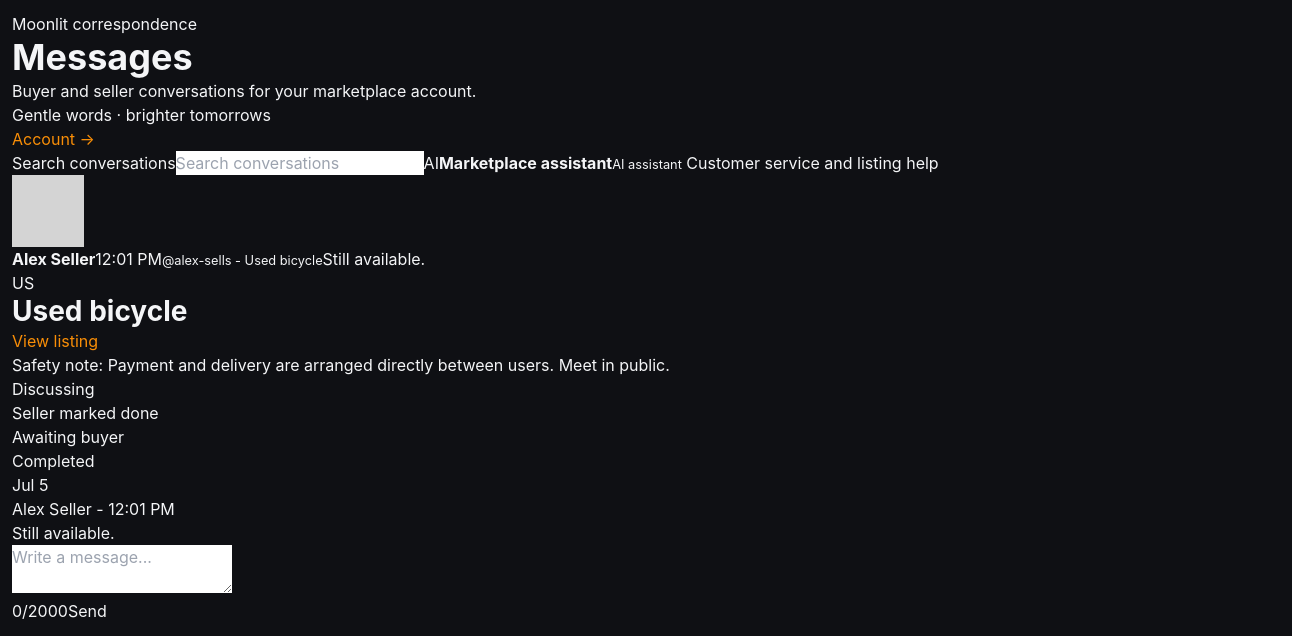
Test: ConversationShellComponent › cuts the Marketplace assistant pane over to V2 when its build flag is enabled
The width and height of the screenshot is (1292, 636).
What coordinates should you click on to do the following:
click the button with class "agent-row"
I would click on:
 (681, 163)
Its box is [424, 151, 939, 175].
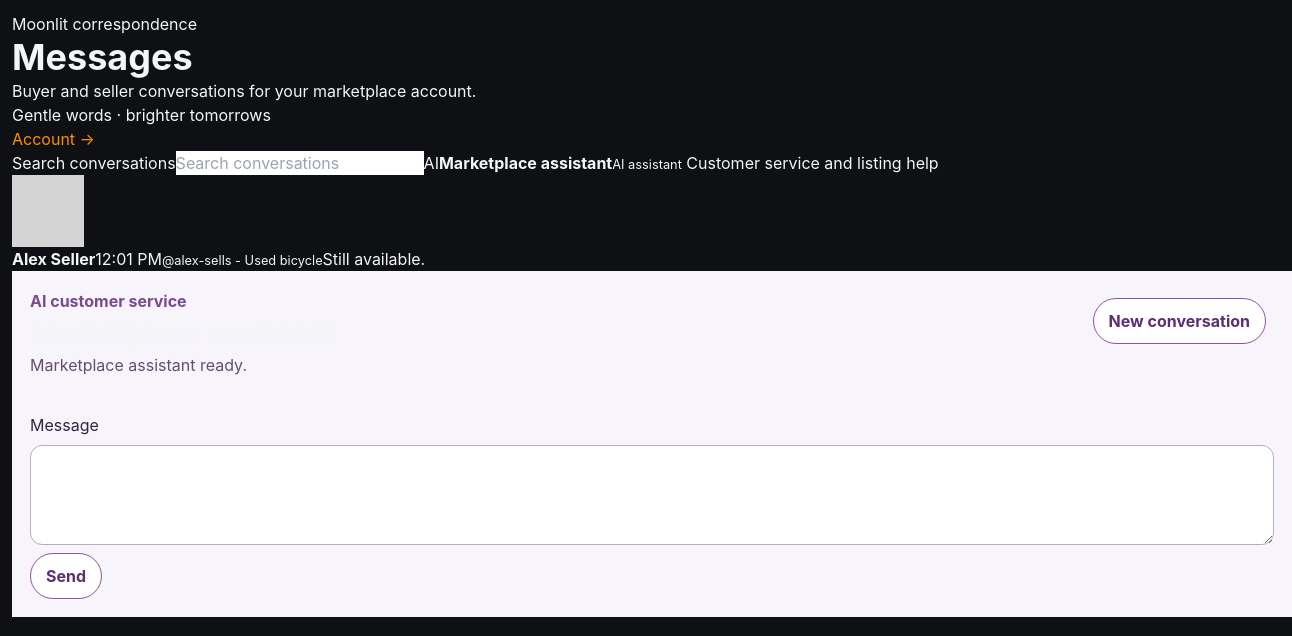
Expected: the text "Marketplace assistant" is shown, [439, 153, 612, 173]
Result: the element that starts with "AI customer service" is shown at [12, 271, 1291, 617]
